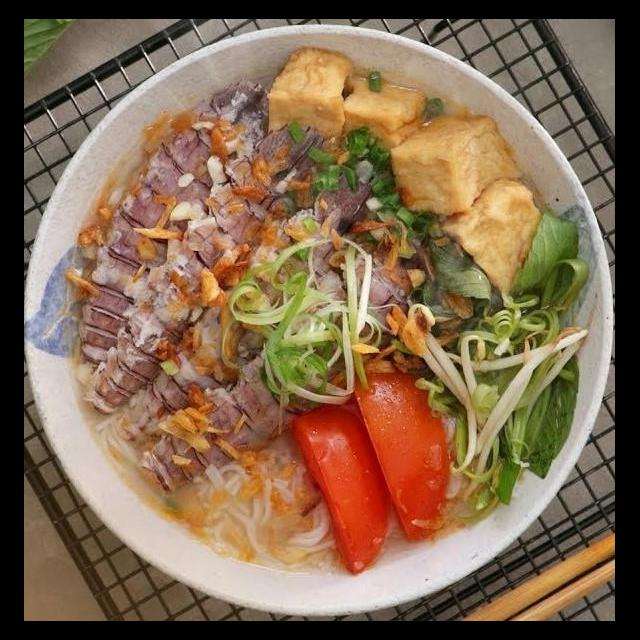bun: (180, 428, 342, 576)
dau hu: (382, 108, 530, 222), (434, 173, 554, 303), (260, 41, 362, 154), (332, 71, 434, 165)
tom tit: (110, 153, 380, 444), (136, 231, 424, 498), (82, 118, 330, 419), (72, 73, 280, 386)
